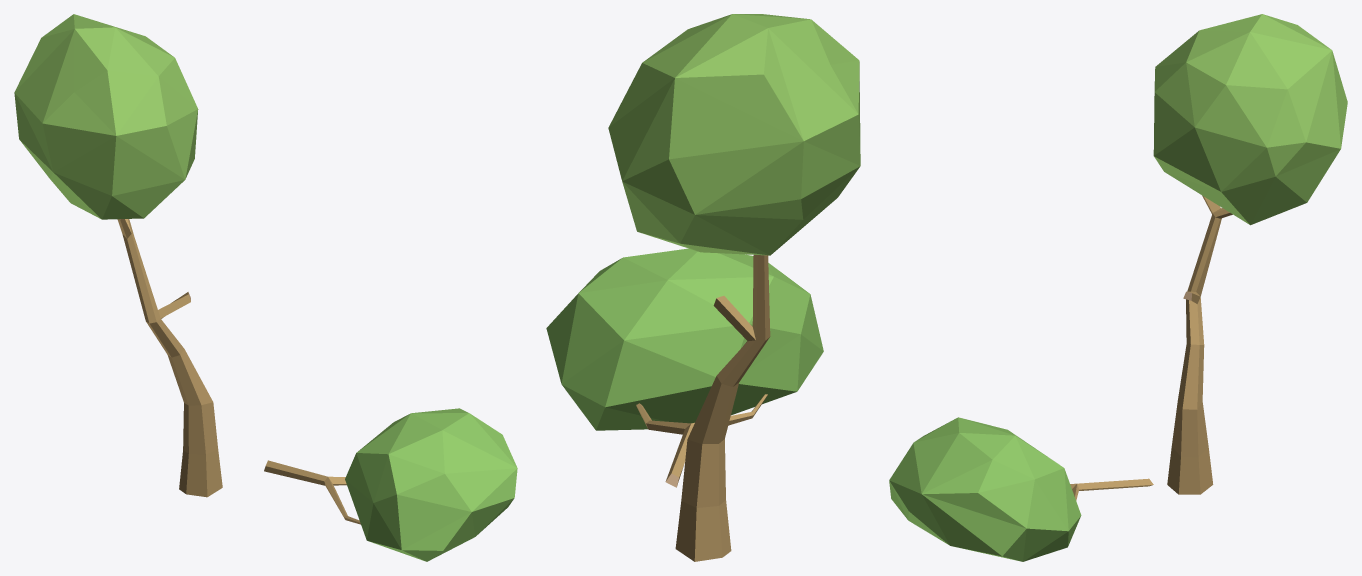
Rendered from Oak_Tree_crk_m_01.fbx.
The picture shows the model from 3 angles, left to right: view 1: azimuth 30°, elevation 25°; view 2: azimuth 150°, elevation 25°; view 3: azimuth 270°, elevation 25°; orthographic projection. The views are drawn at different scales.
Parts seen in each view (by area): view 1: Oak_Tree_crk_m_01; view 2: Oak_Tree_crk_m_01; view 3: Oak_Tree_crk_m_01.
Part boxes in pixels (x1,y1,x2,y2): Oak_Tree_crk_m_01: [14, 14, 517, 561]; Oak_Tree_crk_m_01: [546, 14, 860, 561]; Oak_Tree_crk_m_01: [889, 14, 1347, 561].
Bounding box in the file's own units: 643 × 795 × 764.
